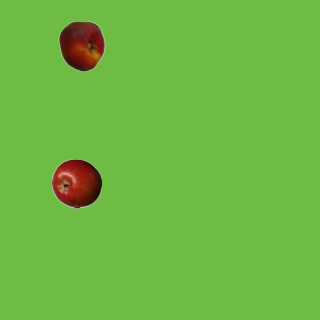Apple Braeburn: (51, 158, 101, 208)
Nectarine Flat: (56, 20, 106, 70)
